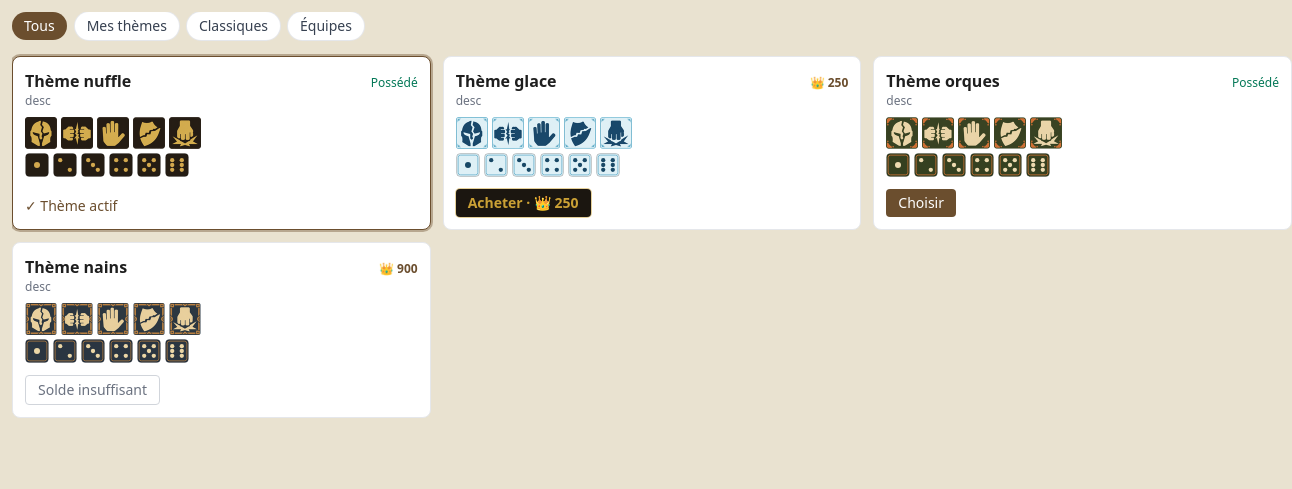
Test: DiceThemeShop › affiche l'erreur d'un achat refusé
Click the button with test id "dice-theme-buy-glace" at (523, 203), box x1=456 y1=189 x2=591 y2=217
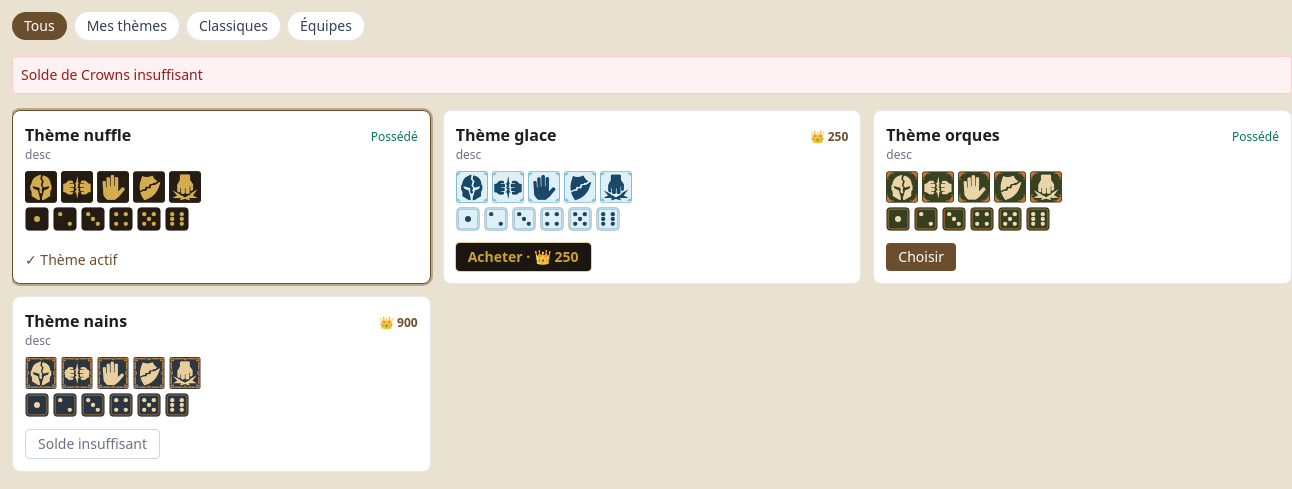
Expected: the message shows "insuffisant", x1=21 y1=65 x2=203 y2=84
